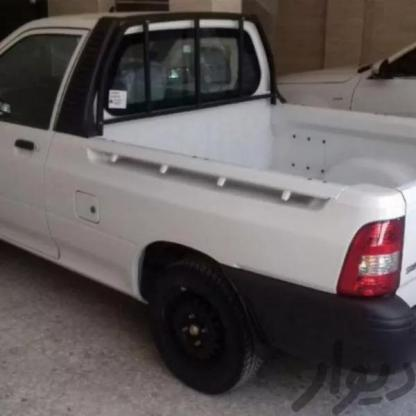Car: (0, 0, 416, 416), (242, 38, 416, 146)
